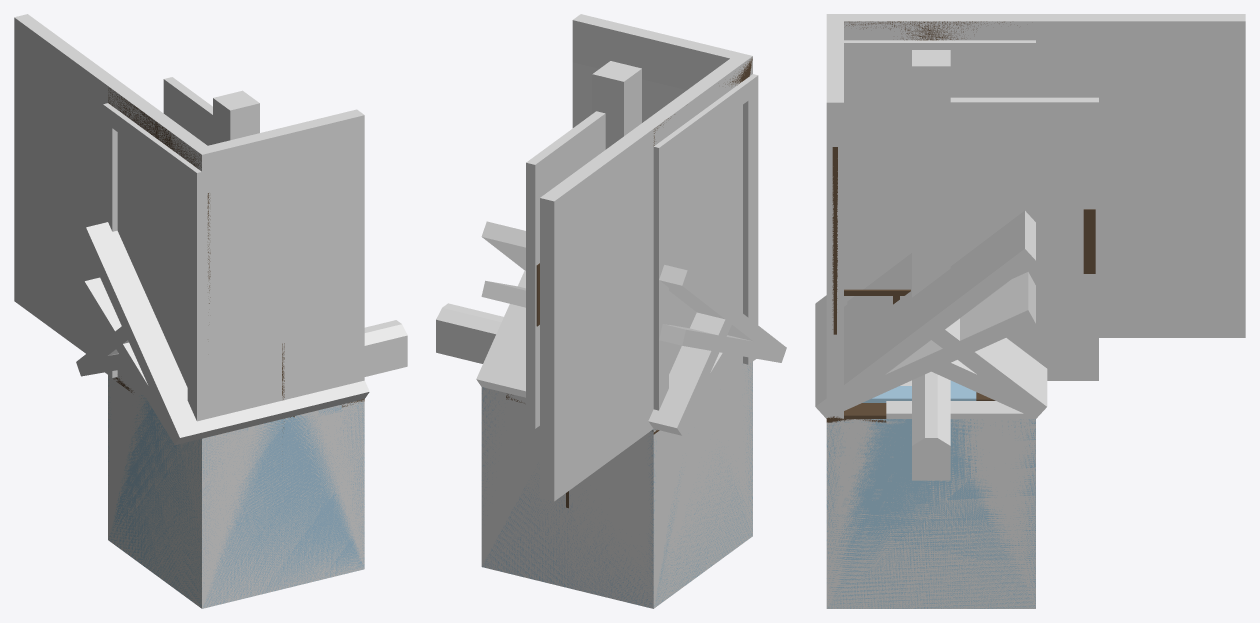
Rendered from House.fbx.
The picture shows the model from 3 angles, left to right: view 1: azimuth 30°, elevation 25°; view 2: azimuth 150°, elevation 25°; view 3: azimuth 270°, elevation 25°; orthographic projection. The views are drawn at different scales.
Visible parts, largest first — view 1: Foundation 1, Wall 2, Floor 1, Corner 1, Window Corner 1, Wall 1, Doorway 1, Roof 2 End, Wood Floor 1, Window 1 Small Panes, Roof 2 Skylight Small Panes End, Roof 2 (+12 smaller); view 2: Wall 2, Foundation 1, Wood Floor 1, Doorway 1, Floor 1, Wall 1, Door 1, Window Corner 1 Small Panes, Roof 2 Middle End, Window 1 Small Panes, Corner 1, Pillar 1 (+15 smaller); view 3: Wall 2, Foundation 1, Door 1, Floor 1, Wall 1, Roof 2, Door 3, Pillar 1, Wood Floor 1, Doorway 1, Roof 2 Middle, Window Corner 1 (+14 smaller).
Part boxes in pixels (<box>): Foundation 1: <box>108,375,364,608</box>; Wall 2: <box>14,14,208,390</box>; Floor 1: <box>108,376,364,608</box>; Corner 1: <box>144,109,364,418</box>; Window Corner 1: <box>108,83,364,419</box>; Wall 1: <box>108,86,215,419</box>; Doorway 1: <box>103,88,220,421</box>; Roof 2 End: <box>81,222,368,445</box>; Wood Floor 1: <box>108,375,364,607</box>; Window 1 Small Panes: <box>108,86,215,417</box>; Roof 2 Skylight Small Panes End: <box>87,222,208,437</box>; Roof 2: <box>202,381,369,438</box>; Wall 2: <box>540,57,752,501</box>; Foundation 1: <box>481,362,752,608</box>; Wood Floor 1: <box>481,362,752,607</box>; Doorway 1: <box>653,58,758,410</box>; Floor 1: <box>481,363,752,607</box>; Wall 1: <box>653,54,752,373</box>; Door 1: <box>526,111,605,428</box>; Window Corner 1 Small Panes: <box>572,14,734,89</box>; Roof 2 Middle End: <box>648,305,785,435</box>; Window 1 Small Panes: <box>654,56,752,369</box>; Corner 1: <box>572,14,751,127</box>; Pillar 1: <box>592,61,641,149</box>; Wall 2: <box>827,14,1245,337</box>; Foundation 1: <box>826,419,1035,608</box>; Door 1: <box>950,97,1098,380</box>; Floor 1: <box>826,419,1035,608</box>; Wall 1: <box>827,14,1032,301</box>; Roof 2: <box>815,211,1035,417</box>; Door 3: <box>950,102,1098,380</box>; Pillar 1: <box>912,50,950,297</box>; Wood Floor 1: <box>826,402,1035,608</box>; Doorway 1: <box>828,14,1035,306</box>; Roof 2 Middle: <box>816,318,1047,418</box>; Window Corner 1: <box>826,14,1035,418</box>.
Size of the model in its own units: 1000 by 1600 by 1232.
